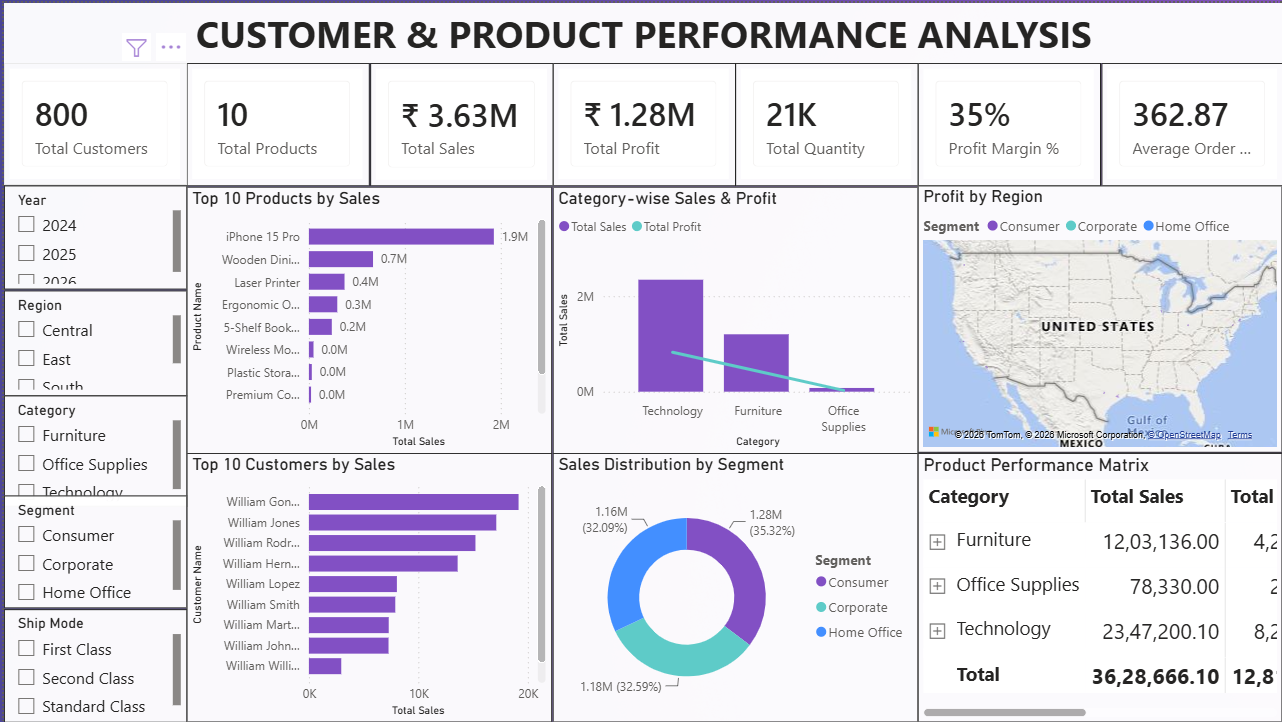

What the dashboard file says about the page in this screenshot:
{"tool":"powerbi","page":{"name":"CUSTOMER & PRODUCT PERFORMANCE ANALYSIS","canvas":[1280,720],"ordinal":3},"visuals":[{"type":"textbox","box":[0,0,1280,60],"z":0},{"type":"cardVisual","fields":{"Data":["Calendar.Profit Margin %"]},"box":[914.3,60,182.9,122.9],"z":1000},{"type":"cardVisual","fields":{"Data":["Calendar.Total Quantity"]},"box":[731.4,60,182.9,122.9],"z":2000},{"type":"cardVisual","fields":{"Data":["Data.Total Profit"]},"box":[548.6,60,182.9,122.9],"z":3000},{"type":"cardVisual","fields":{"Data":["Data.Total Sales"]},"box":[365.6,59.9,183.4,123.5],"z":4000},{"type":"cardVisual","fields":{"Data":["Data.Total Products"]},"box":[182.9,60,182.9,122.9],"z":5000},{"type":"cardVisual","fields":{"Data":["Data.Total Customers"]},"box":[0,60,182.9,122.9],"z":6000},{"type":"clusteredBarChart","title":"Top 10 Products by Sales","fields":{"Category":["Data.Product Name"],"Y":["Data.Total Sales"]},"box":[182.9,184.3,365.7,267.1],"z":7000},{"type":"barChart","title":"Top 10 Customers by Sales","fields":{"Category":["Data.Customer Name"],"Y":["Data.Total Sales"]},"box":[182.9,450,365.7,270],"z":8000},{"type":"lineClusteredColumnComboChart","title":"Category-wise Sales & Profit","fields":{"Y2":["Data.Total Profit"],"Y":["Data.Total Sales"],"Category":["Data.Category"]},"box":[548.6,184.3,365.7,267.1],"z":9000},{"type":"donutChart","title":"Sales Distribution by Segment","fields":{"Category":["Data.Segment"],"Y":["Data.Total Sales"]},"box":[548.6,450,365.7,270],"z":10000},{"type":"cardVisual","fields":{"Data":["Data.Average Order Value"]},"box":[1097.1,60,182.9,122.9],"z":11000},{"type":"filledMap","title":"Profit by Region","fields":{"Category":["Data.City","Data.State","Data.Country","Data.Region"],"Series":["Data.Segment"]},"box":[914.3,182.9,365.7,267.1],"z":12000},{"type":"pivotTable","title":"Product Performance Matrix","fields":{"Rows":["Data.Category","Data.Sub Category","Data.Product Name"],"Values":["Data.Total Sales","Data.Total Profit","Calendar.Total Quantity"]},"box":[914,450,365.7,270],"z":13000},{"type":"slicer","fields":{"Values":["Calendar.Year"]},"box":[0,182.9,182.9,104.3],"z":14000},{"type":"slicer","fields":{"Values":["Data.Ship Mode"]},"box":[0,605.7,182.9,114.3],"z":15000},{"type":"slicer","fields":{"Values":["Data.Region"]},"box":[0,287.1,182.9,105.7],"z":16000},{"type":"slicer","fields":{"Values":["Data.Category"]},"box":[0,392.9,182.9,111.4],"z":17000},{"type":"slicer","fields":{"Values":["Data.Segment"]},"box":[0,492.9,182.9,112.9],"z":18000}]}

Visuals, with their boxes in screenshot pixels (x1, y1, x2, y2), scaled from the page's 1280x720 canvas onto the 1282x722 screenshot:
textbox: bbox=[0, 0, 1281, 60]
cardVisual - Calendar.Profit Margin %: bbox=[916, 60, 1099, 183]
cardVisual - Calendar.Total Quantity: bbox=[733, 60, 916, 183]
cardVisual - Data.Total Profit: bbox=[549, 60, 733, 183]
cardVisual - Data.Total Sales: bbox=[366, 60, 550, 184]
cardVisual - Data.Total Products: bbox=[183, 60, 366, 183]
cardVisual - Data.Total Customers: bbox=[0, 60, 183, 183]
"Top 10 Products by Sales" clusteredBarChart: bbox=[183, 185, 549, 453]
"Top 10 Customers by Sales" barChart: bbox=[183, 451, 549, 721]
"Category-wise Sales & Profit" lineClusteredColumnComboChart: bbox=[549, 185, 916, 453]
"Sales Distribution by Segment" donutChart: bbox=[549, 451, 916, 721]
cardVisual - Data.Average Order Value: bbox=[1099, 60, 1281, 183]
"Profit by Region" filledMap: bbox=[916, 183, 1281, 451]
"Product Performance Matrix" pivotTable: bbox=[915, 451, 1281, 721]
slicer - Calendar.Year: bbox=[0, 183, 183, 288]
slicer - Data.Ship Mode: bbox=[0, 607, 183, 721]
slicer - Data.Region: bbox=[0, 288, 183, 394]
slicer - Data.Category: bbox=[0, 394, 183, 506]
slicer - Data.Segment: bbox=[0, 494, 183, 607]
